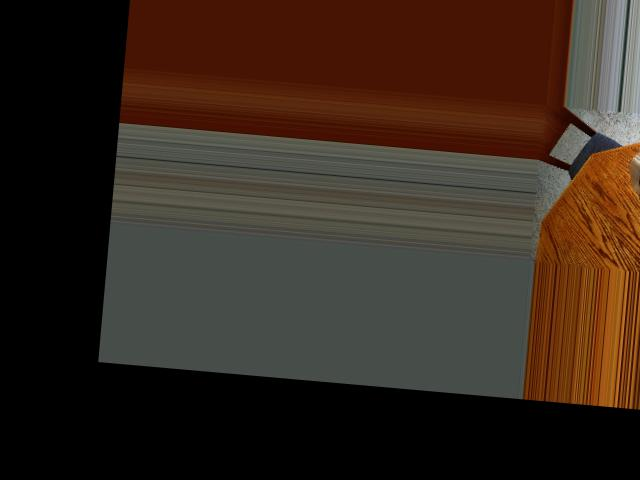cheese: (615, 132, 640, 200)
